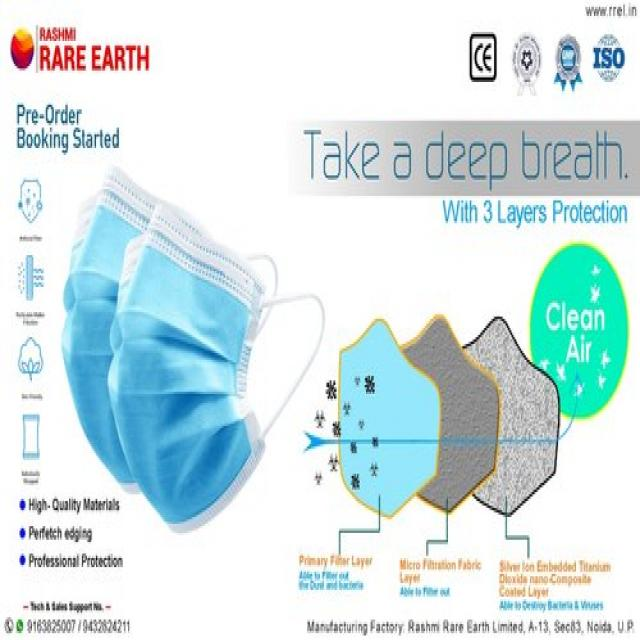non-organic waste: (60, 164, 324, 533)
